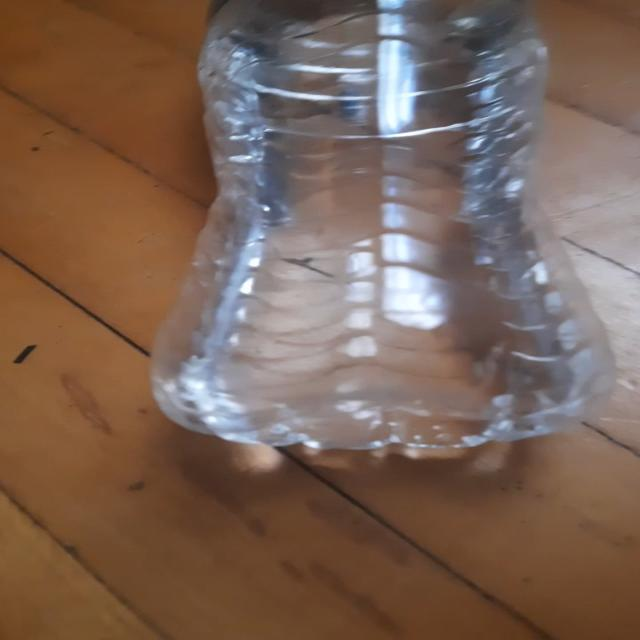Plastic: (149, 0, 619, 464)
